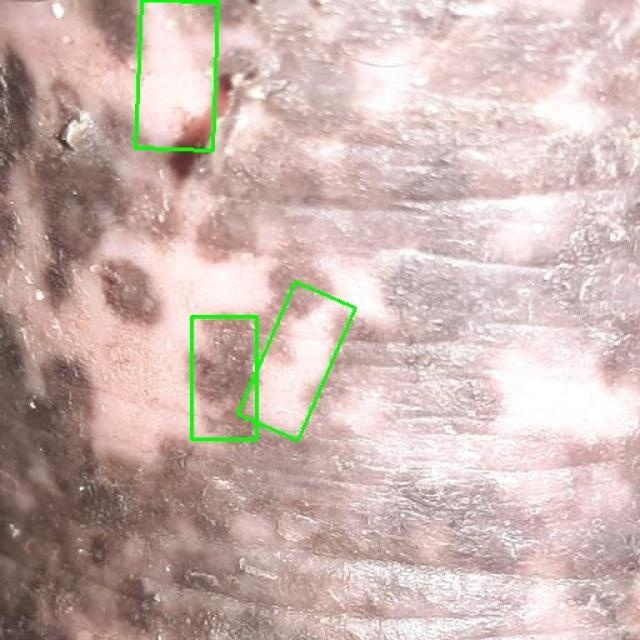Eczema: (238, 282, 356, 441), (136, 0, 218, 151), (191, 316, 256, 439)
